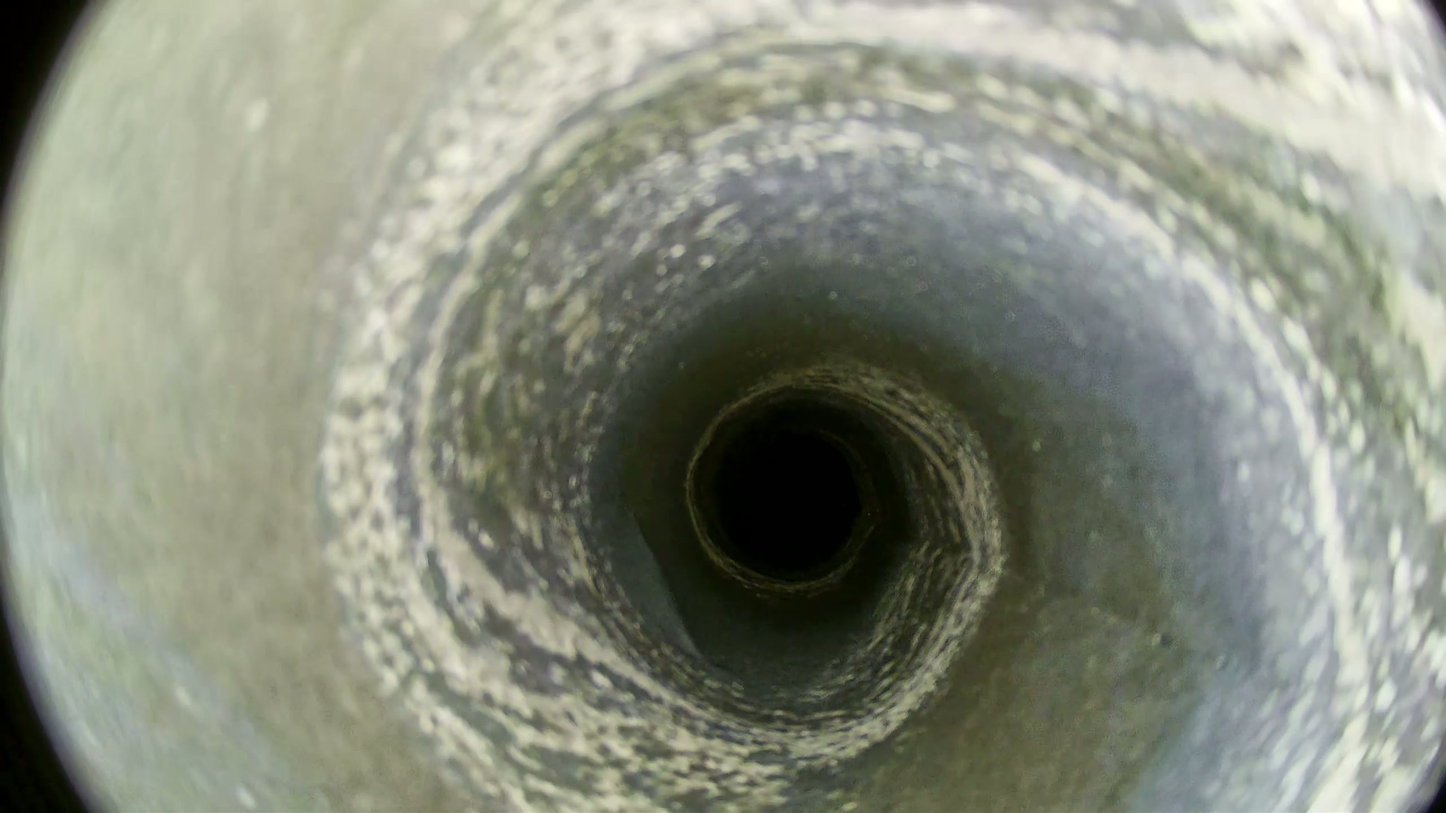hole: (722, 432, 857, 568)
